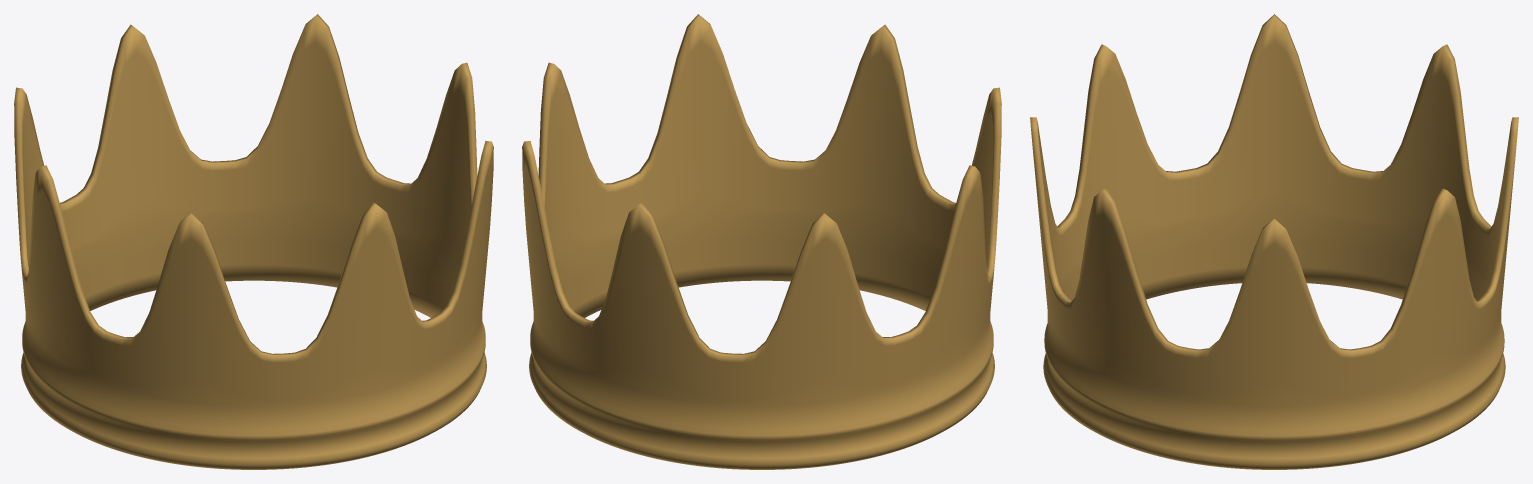
The picture shows the model from 3 angles, left to right: view 1: azimuth 30°, elevation 25°; view 2: azimuth 150°, elevation 25°; view 3: azimuth 270°, elevation 25°; orthographic projection.
Parts seen in each view (by area): view 1: Complete open scalloped crown band; view 2: Complete open scalloped crown band; view 3: Complete open scalloped crown band.
Boxes of the visible parts, <box> form: Complete open scalloped crown band: <box>14,14,493,469</box>; Complete open scalloped crown band: <box>522,14,1001,469</box>; Complete open scalloped crown band: <box>1030,14,1518,469</box>.
Bounding box in the file's own units: 0.22 × 0.128 × 0.22.
